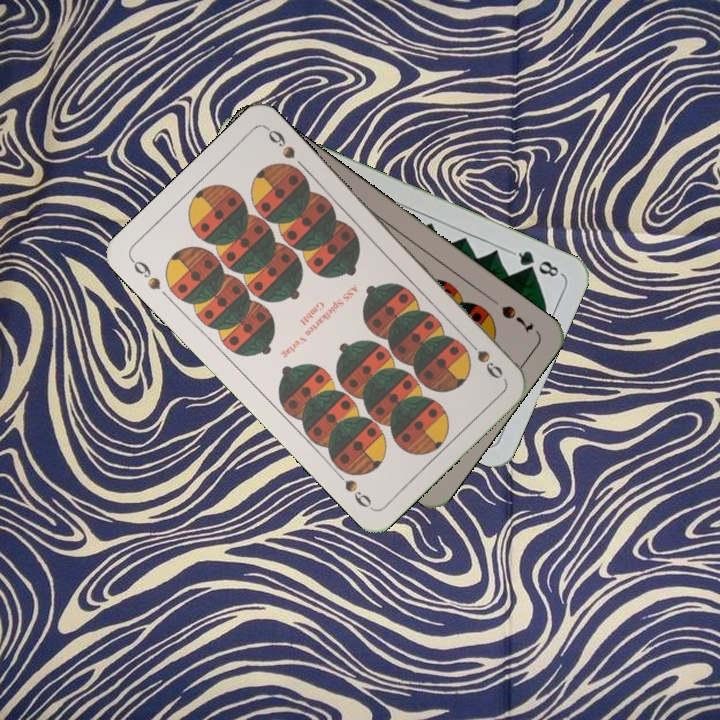G8: (508, 246, 565, 280)
S7: (497, 301, 536, 336)
S9: (461, 334, 506, 382), (126, 254, 164, 293)
